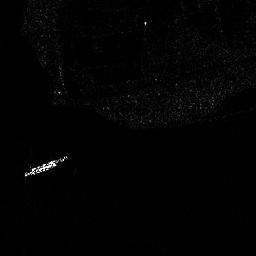ship: (24, 154, 69, 177)
